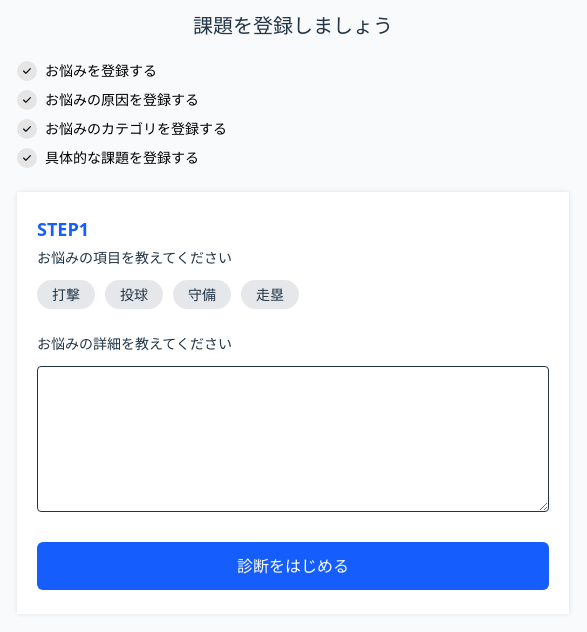
Test: STEP画面1のテスト › STEP画面2のテスト › step2用のカテゴリボタンを押下するとSTEP3に移動する
Click the radio button with class "step1Radio".
click(66, 294)  # box [37, 280, 95, 309]
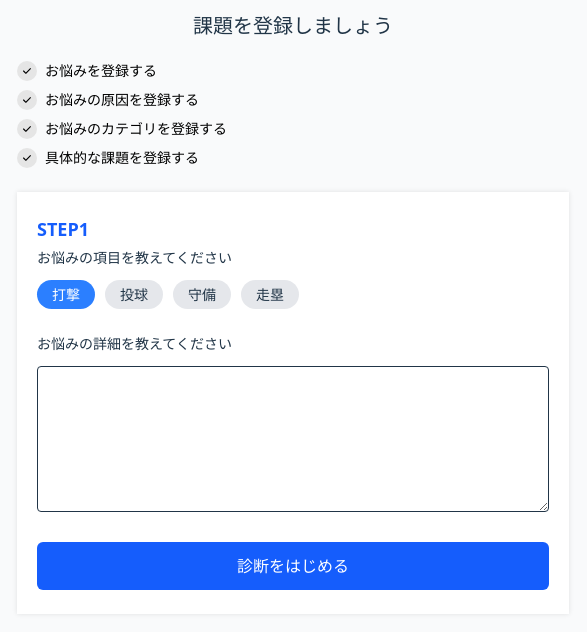
Type "テストテキスト" into the text box with class "step1Form".
click(293, 439); type("テストテキスト")  # box [37, 366, 549, 512]
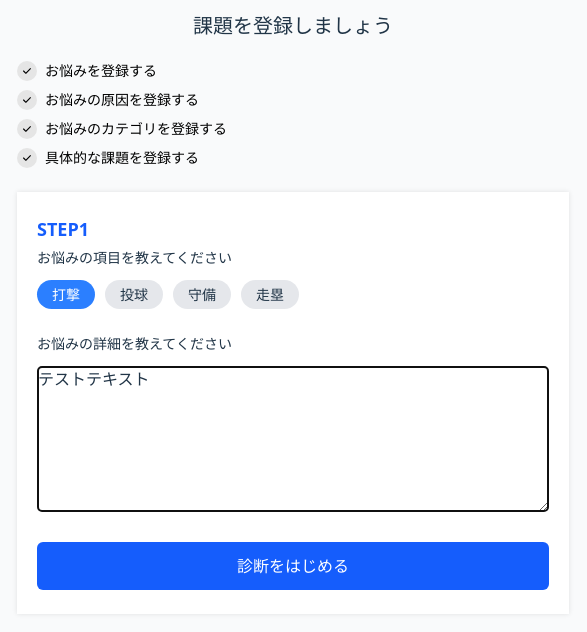
Click the button "診断をはじめる".
click(293, 566)  # box [37, 542, 549, 590]
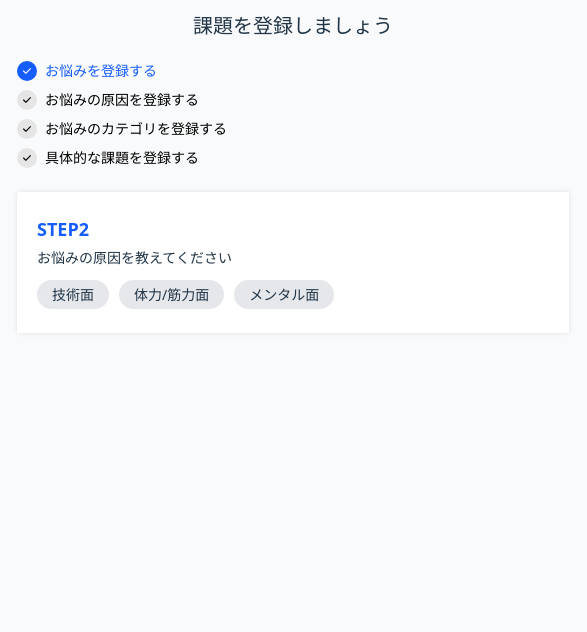
Click the radio button with class "step2Radio".
click(73, 294)  # box [37, 280, 109, 309]
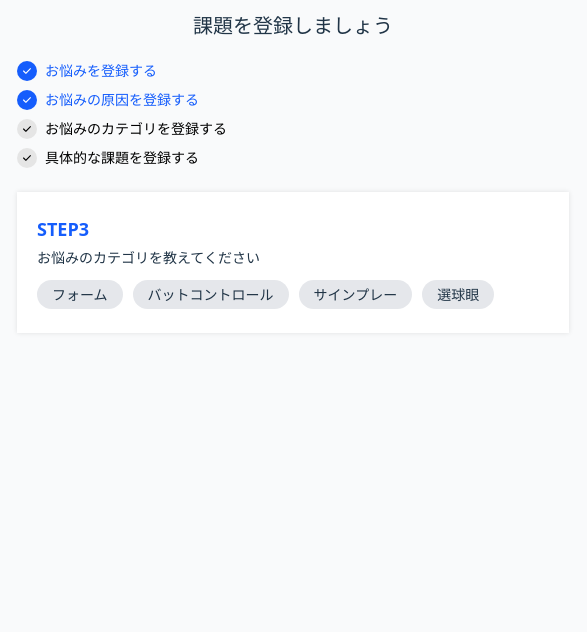
Expected: the heading "step3" is shown, [37, 217, 89, 241]
